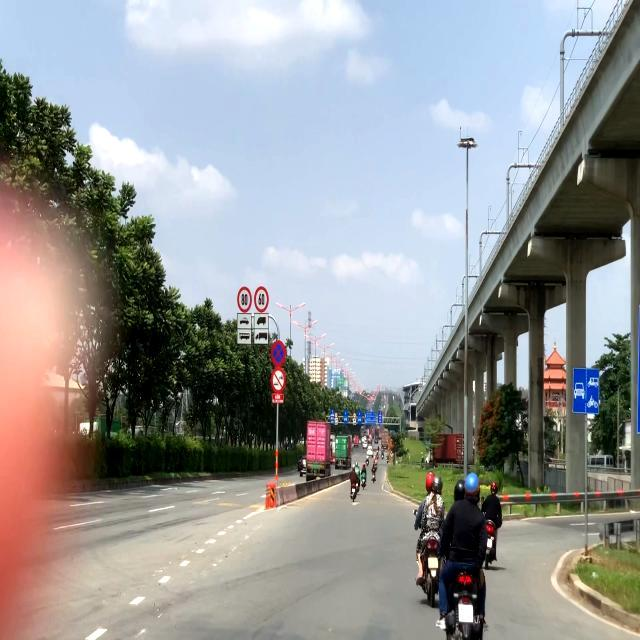Cam dung xe va do xe: (270, 339, 286, 366)
Toc do toi da cho phep: (254, 285, 269, 312), (238, 286, 252, 312)
